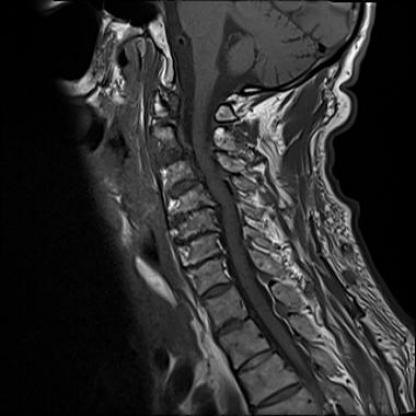Disc Bulgerotation: (168, 208, 216, 222), (174, 231, 218, 246), (163, 180, 203, 196), (184, 256, 227, 269), (154, 153, 185, 167)
Osteophytesrotation: (162, 179, 202, 196), (173, 231, 218, 246), (169, 208, 217, 222), (184, 256, 227, 269), (154, 153, 185, 167)
